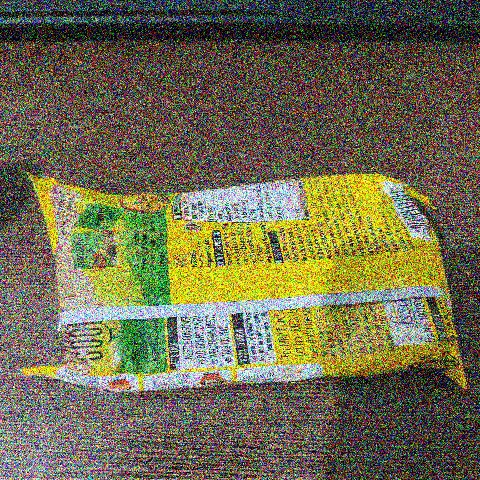maggi: (2, 138, 480, 418)
